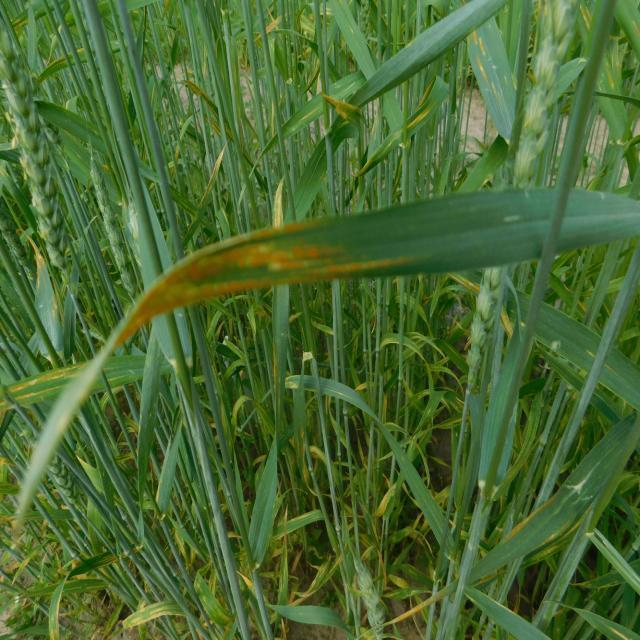Yellow Rust: (99, 202, 419, 355)
